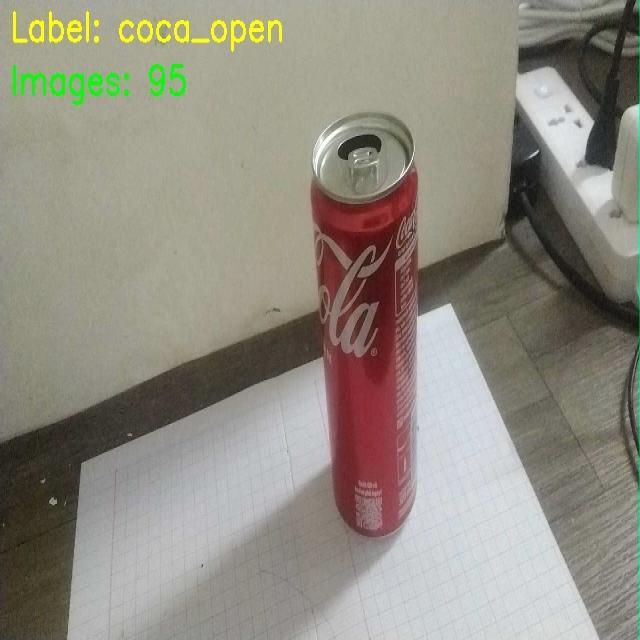Coca_open: (280, 82, 461, 550)
